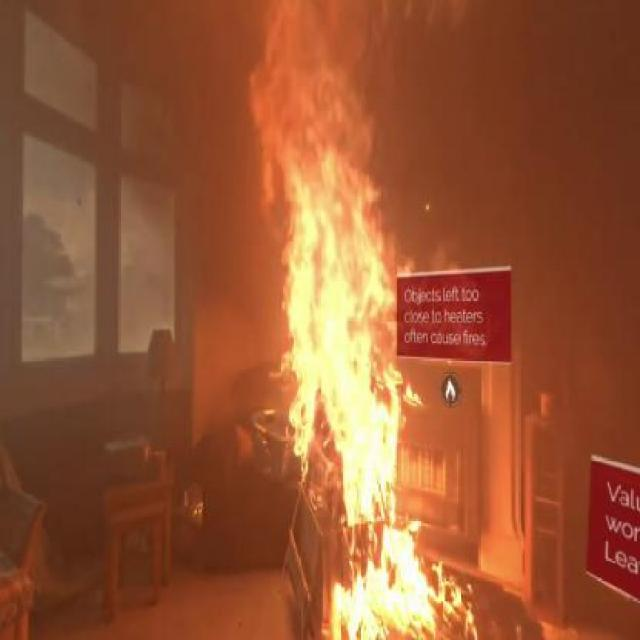fire: (306, 242, 403, 630)
smoke: (58, 1, 244, 306), (404, 64, 576, 241)
